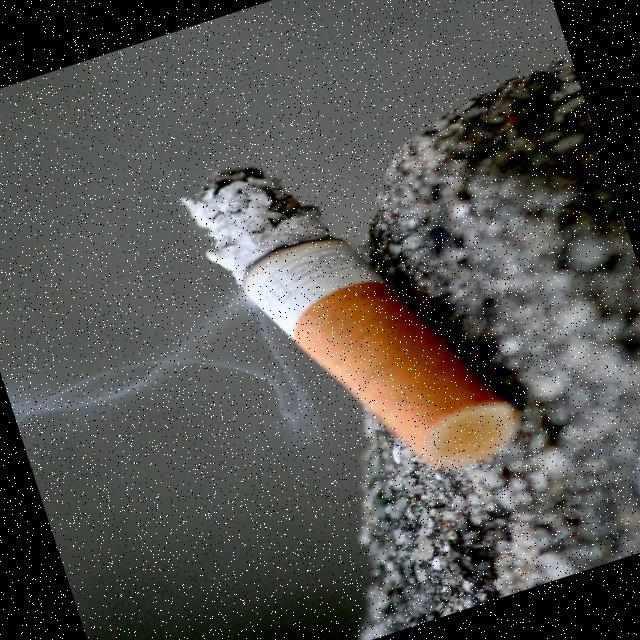cigarette: (166, 99, 532, 532)
